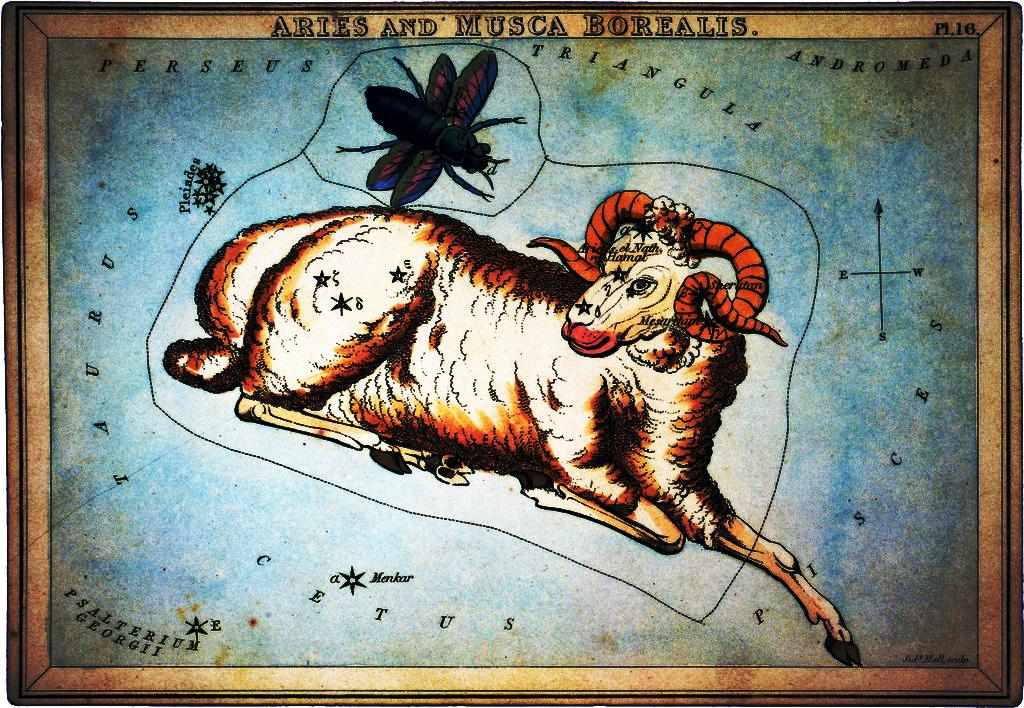Sheep: (156, 188, 862, 670)
